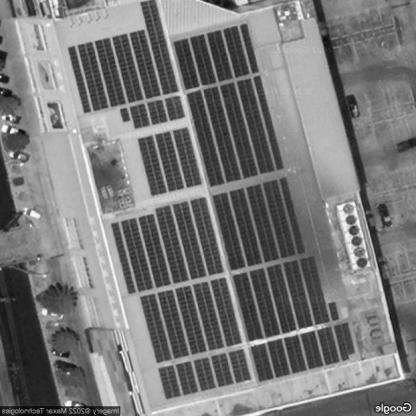solar-pv-panel: (67, 0, 179, 113), (110, 199, 224, 295), (186, 75, 283, 187), (232, 257, 339, 342), (138, 278, 240, 363), (212, 177, 304, 270), (250, 323, 355, 382), (174, 23, 259, 91), (157, 348, 252, 398), (135, 128, 201, 197), (118, 95, 186, 129)
